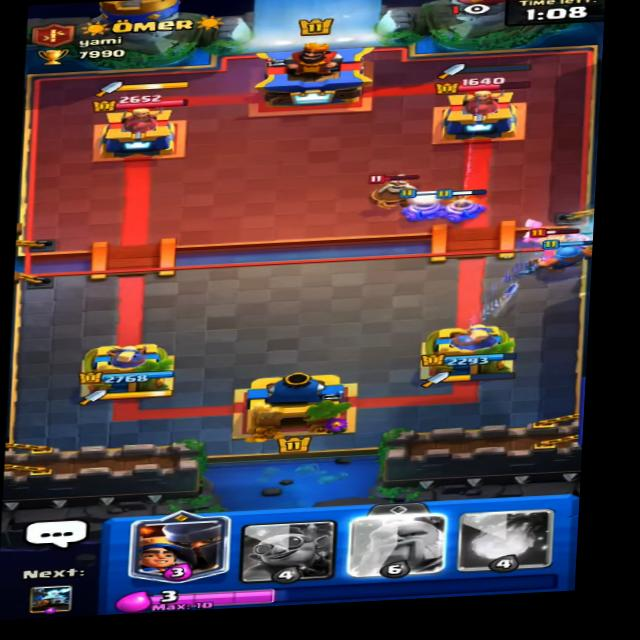lumberjack: (517, 221, 592, 255)
monk: (353, 168, 426, 210)
